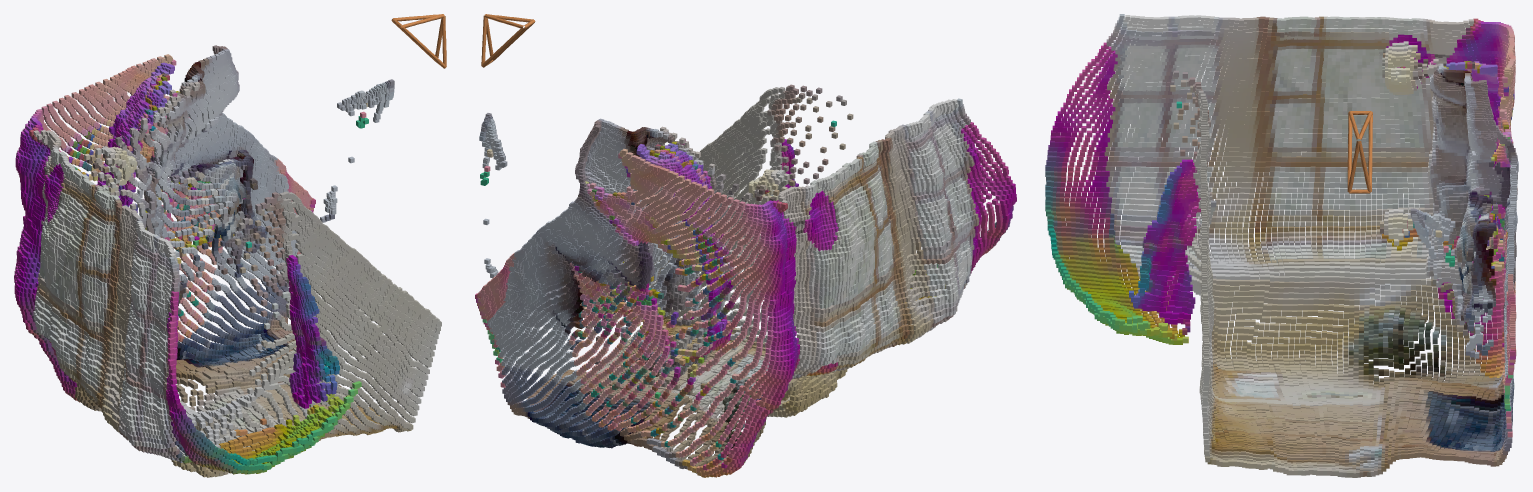
File: pred_1-compressed.glb
3 renders of one model, left to right at view 1: azimuth 30°, elevation 25°; view 2: azimuth 150°, elevation 25°; view 3: azimuth 270°, elevation 25°, orthographic. The views are drawn at different scales.
Size of the model in its own units: 5.1 by 4.32 by 4.61.
